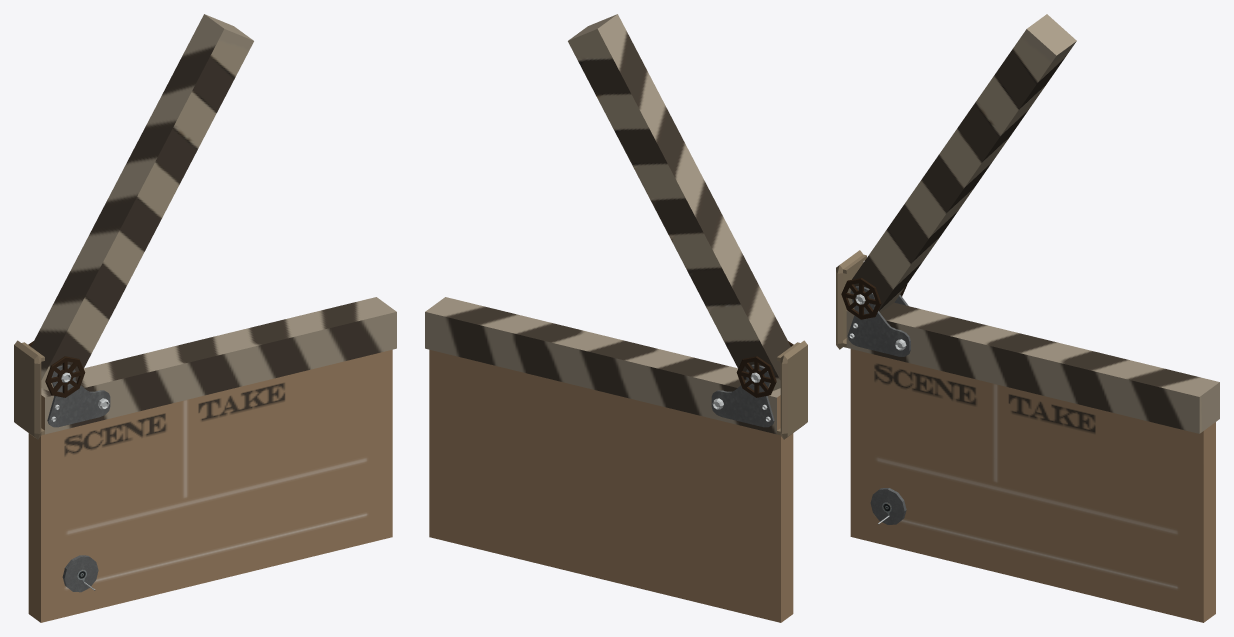
The model's file is End Slate.fbx.
The picture shows the model from 3 angles, left to right: view 1: azimuth 30°, elevation 25°; view 2: azimuth 150°, elevation 25°; view 3: azimuth 330°, elevation 25°; orthographic projection.
Visible parts, largest first — view 1: slatebody, upperslate, slatecover, boltplate, handle, wheel; view 2: slatebody, upperslate, slatecover, boltplate, wheel; view 3: slatebody, upperslate, boltplate, slatecover, wheel, handle.
Boxes of the visible parts, x1,y1,x2,y2 form: slatebody: (28,297,396,622); upperslate: (31,14,253,390); slatecover: (14,340,44,439); boltplate: (47,364,110,427); handle: (62,555,98,592); wheel: (28,341,85,397); slatebody: (425,297,793,622); upperslate: (568,14,790,390); slatecover: (777,340,807,439); boltplate: (711,364,774,427); wheel: (736,341,793,397); slatebody: (846,302,1219,622); upperslate: (847,14,1076,312); boltplate: (847,286,910,356); slatecover: (836,250,866,349); wheel: (841,278,907,319); handle: (870,488,906,524).
Size of the model in its own units: 1030 by 1503 by 169.
Materials: 1 (1 with a texture image).
